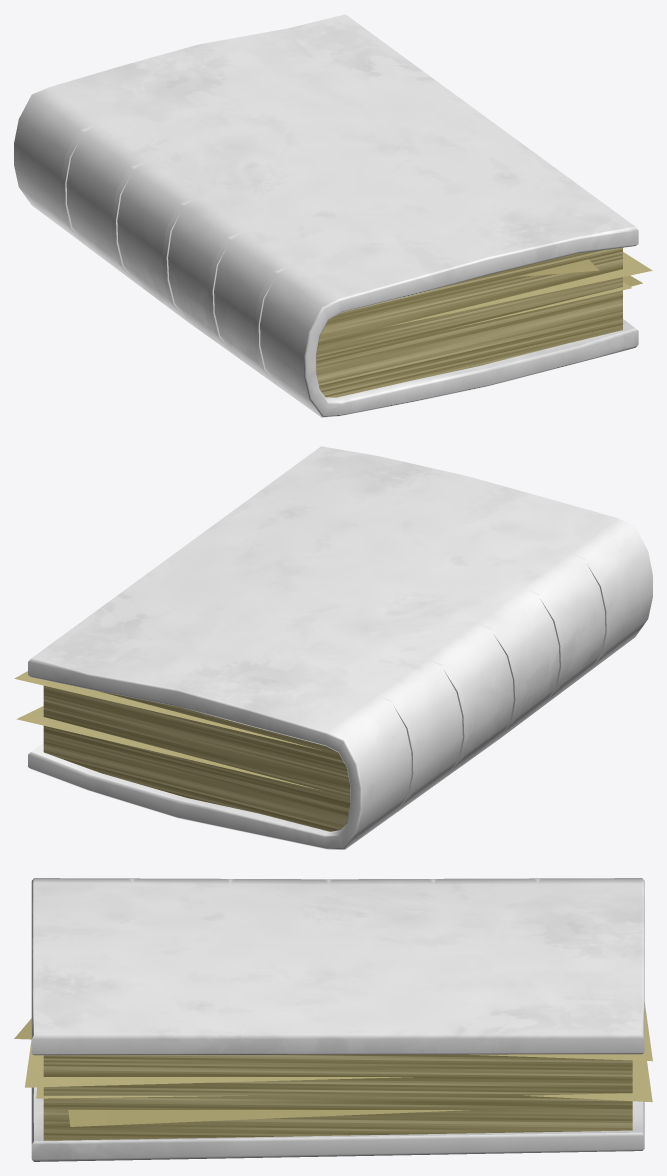
The model's file is Book04.fbx.
3 views of the same model, one above another, from view 1: azimuth 30°, elevation 25°; view 2: azimuth 150°, elevation 25°; view 3: azimuth 270°, elevation 25° (orthographic). The views are drawn at different scales.
Visible parts, largest first — view 1: Book04; view 2: Book04; view 3: Book04.
Part boxes in pixels (<box>): Book04: <box>14,14,652,417</box>; Book04: <box>14,446,652,849</box>; Book04: <box>14,878,652,1161</box>.
Bounding box in the file's own units: 0.2577 × 0.089 × 0.3796.
Materials: 2 (2 with a texture image).
